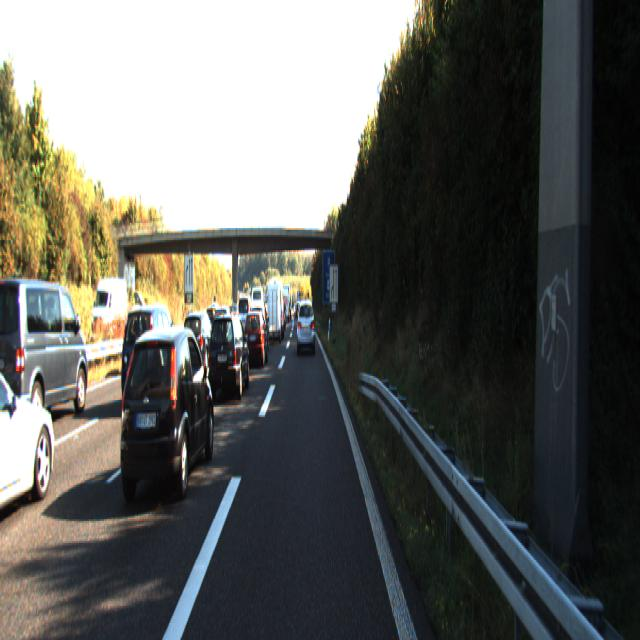Car: (117, 322, 216, 510), (0, 274, 91, 439), (0, 349, 62, 532), (119, 301, 180, 414), (205, 310, 250, 402), (242, 310, 268, 368), (266, 286, 283, 347), (297, 296, 315, 352)
